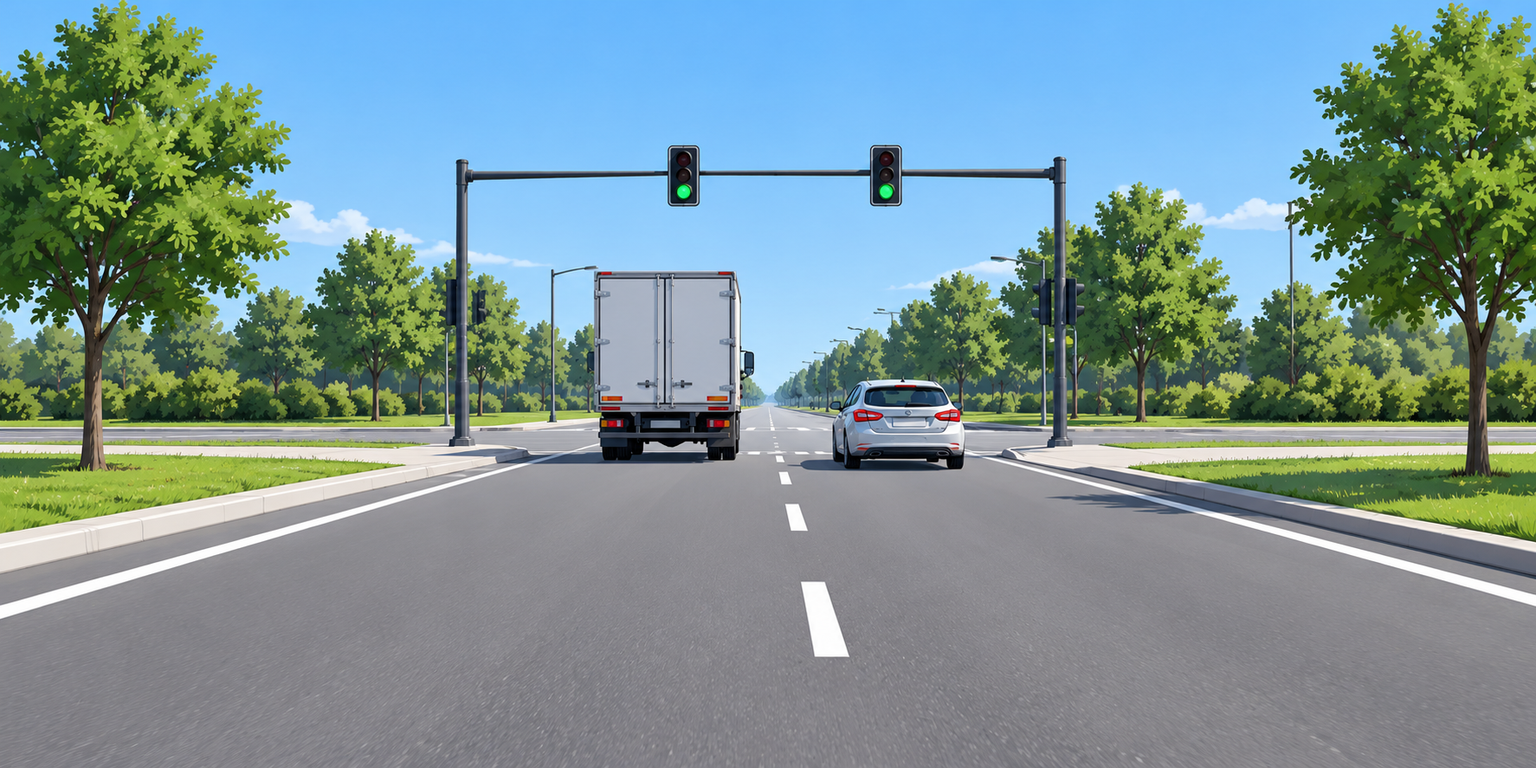car: (830, 382, 971, 470)
traffic_light: (869, 145, 904, 207), (668, 145, 701, 207)
truck: (593, 270, 755, 460)
